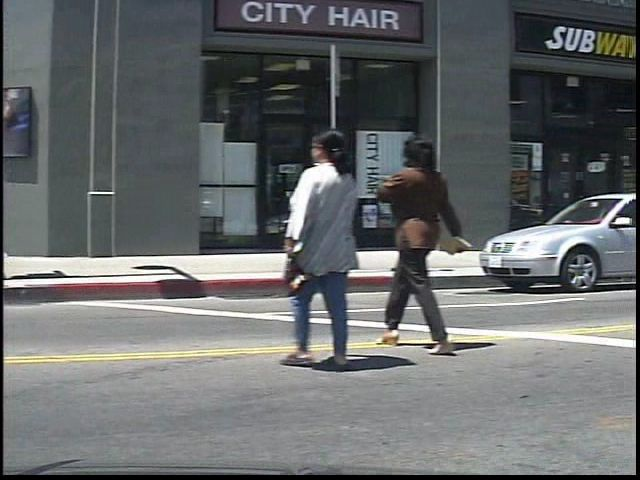person: (384, 124, 482, 356), (287, 123, 377, 372)
